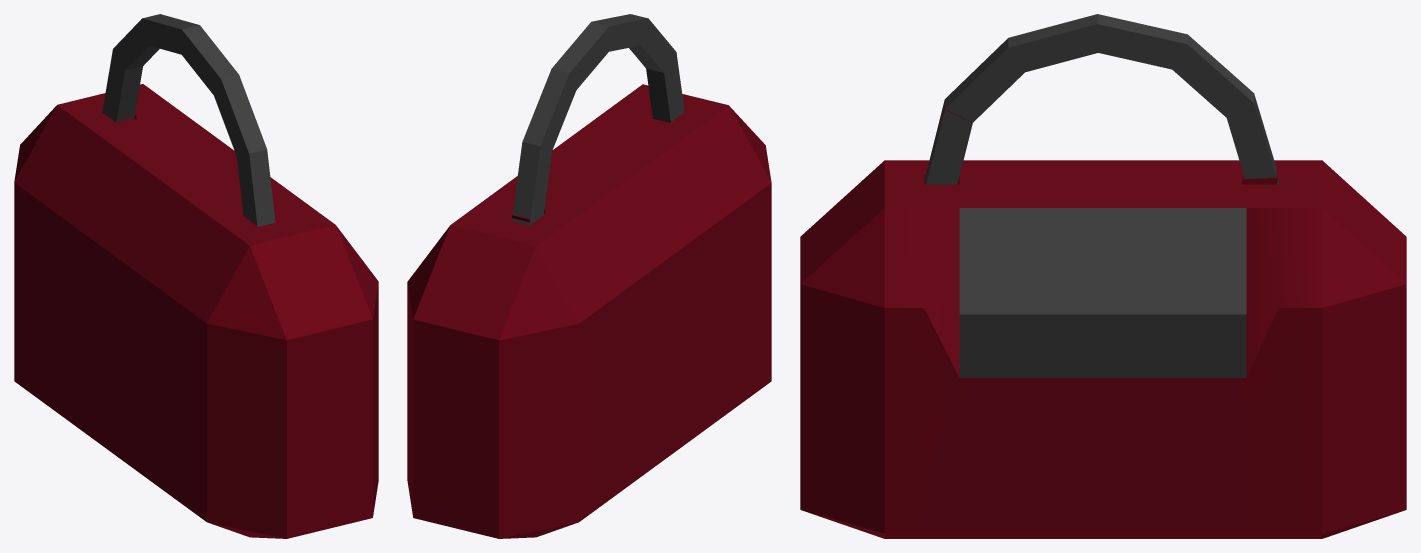
File: handbag.fbx
The picture shows the model from 3 angles, left to right: view 1: azimuth 30°, elevation 25°; view 2: azimuth 150°, elevation 25°; view 3: azimuth 270°, elevation 25°; orthographic projection. The views are drawn at different scales.
Visible parts, largest first — view 1: pCube11; view 2: pCube11; view 3: pCube11.
Boxes of the visible parts, x1,y1,x2,y2 form: pCube11: (14,14,378,538); pCube11: (407,14,771,538); pCube11: (800,14,1406,538).
Bounding box in the file's own units: 0.3123 × 0.7065 × 0.7894.
